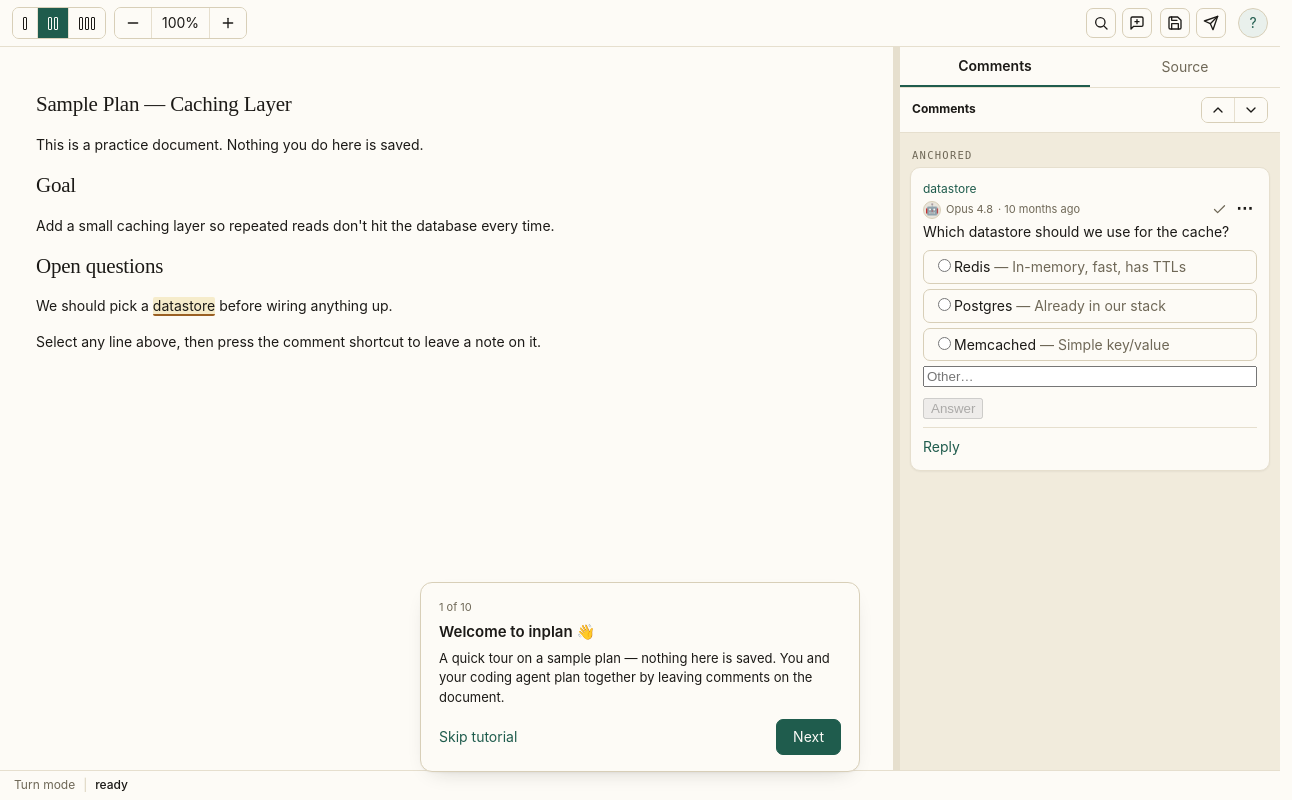
Test: AppRoot onboarding gate › first run shows the tour on the sample, then opens the real doc when skipped
Expected: the text "The agent's actual document." is not shown
Expected: the text "Welcome to inplan 👋" is shown, [439,622,595,641]
Click the button "Skip tutorial" at (478, 737), box [439,726,517,748]
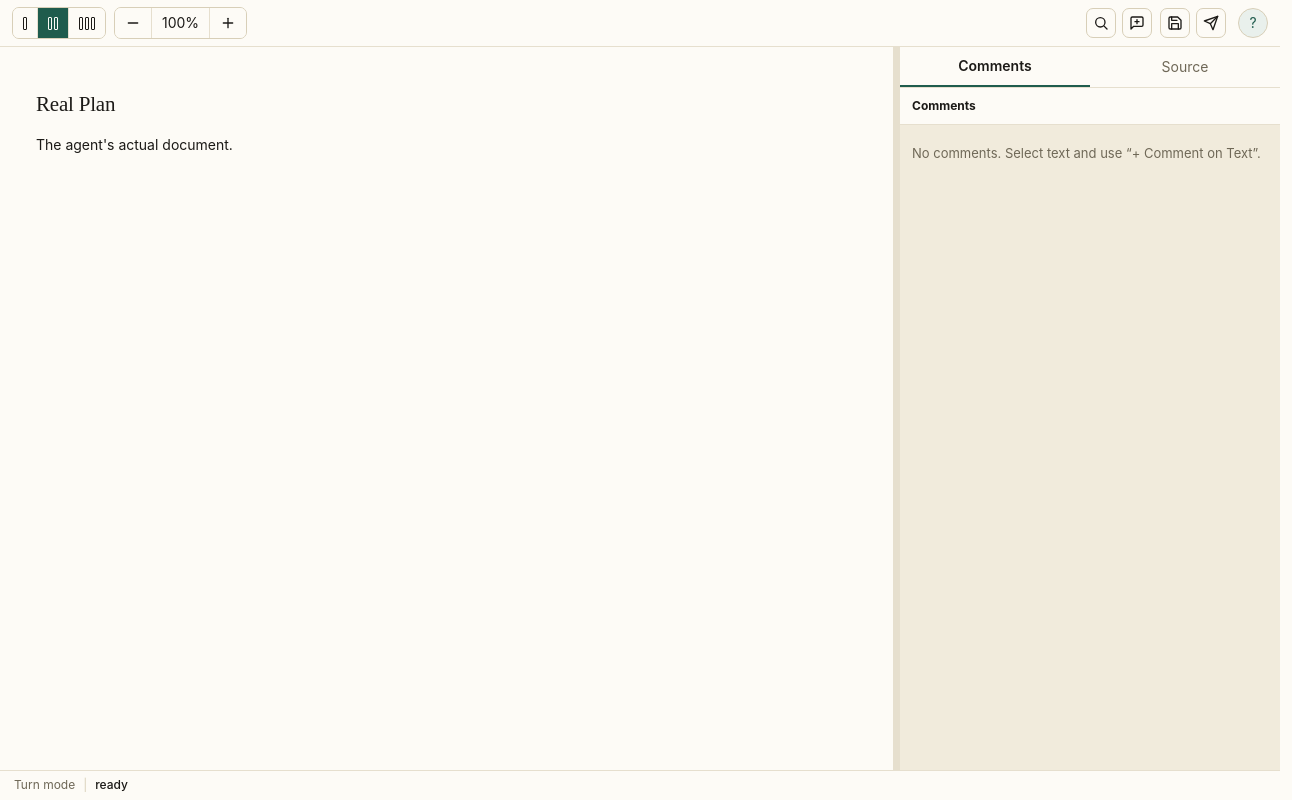
Result: the text "The agent's actual document." is shown at [36,136,233,153]
Result: the button "Skip tutorial" is gone
